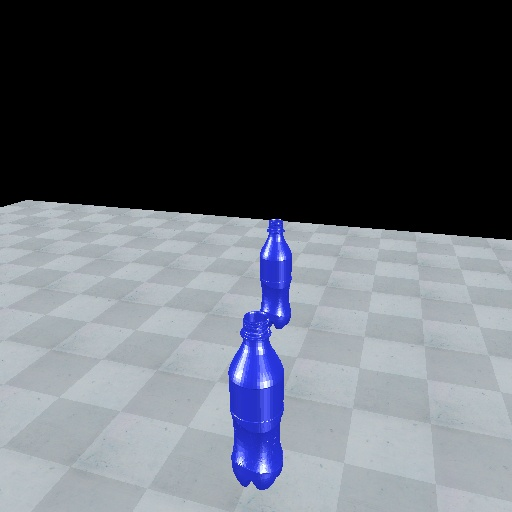bottle: (226, 309, 286, 493), (258, 218, 293, 332)
